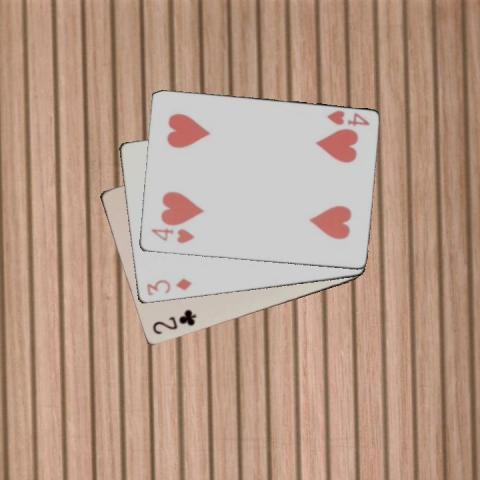2c: (150, 307, 198, 336)
3d: (144, 276, 193, 298)
4h: (148, 226, 196, 245), (323, 108, 371, 127)
